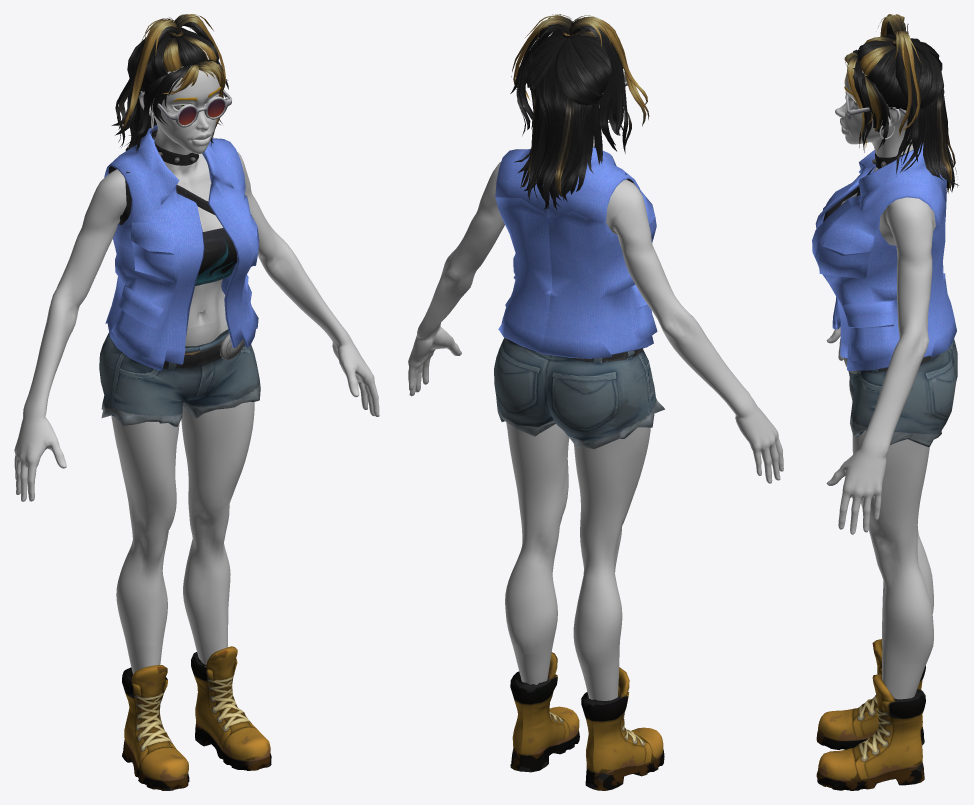
Rendered from Character 7.fbx.
3 renders of one model, left to right at view 1: azimuth 30°, elevation 25°; view 2: azimuth 150°, elevation 25°; view 3: azimuth 270°, elevation 25°, orthographic. The views are drawn at different scales.
Parts seen in each view (by area): view 1: jacket 2, legs.001, body.002, Boots, shorts.002, w hair 1, head, Top 4, legs, body.001, M_glasses.001; view 2: jacket 2, legs.001, w hair 1, body.002, shorts.002, Boots, legs; view 3: jacket 2, body.002, legs.001, w hair 1, Boots, shorts.002, head, legs, Top 4.
Part boxes in pixels (x1,y1,x2,y2): jacket 2: (104, 125, 259, 370); legs.001: (111, 401, 254, 645); body.002: (14, 152, 379, 501); Boots: (122, 646, 271, 790); shorts.002: (99, 329, 260, 426); w hair 1: (111, 14, 228, 151); head: (139, 44, 221, 169); Top 4: (108, 129, 237, 286); legs: (125, 311, 228, 674); body.001: (189, 212, 224, 317); M_glasses.001: (138, 89, 232, 127); jacket 2: (495, 147, 657, 358); legs.001: (505, 361, 650, 670); w hair 1: (510, 14, 649, 209); body.002: (408, 162, 783, 483); shorts.002: (494, 338, 664, 449); Boots: (510, 652, 664, 790); legs: (513, 646, 619, 700); jacket 2: (812, 143, 956, 370); body.002: (826, 167, 935, 534); legs.001: (852, 430, 933, 664); w hair 1: (844, 14, 958, 193); Boots: (816, 639, 925, 790); shorts.002: (843, 339, 957, 447); head: (835, 70, 913, 157); legs: (882, 624, 927, 699); Top 4: (823, 150, 913, 221).
Size of the model in its own units: 96.47 by 192 by 34.88.
